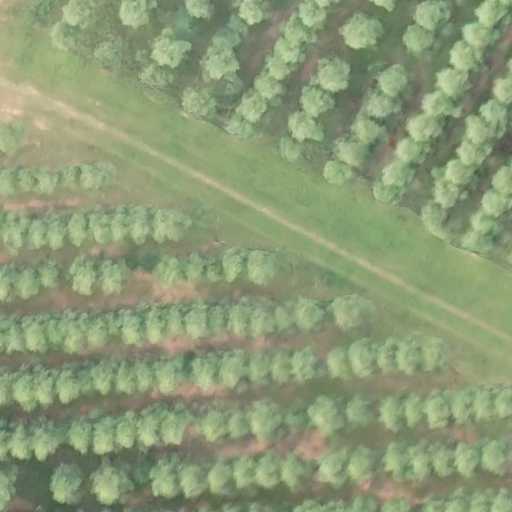eucalipto: (332, 293, 377, 332), (306, 397, 346, 437), (340, 13, 382, 50), (48, 463, 84, 506), (89, 467, 129, 505), (251, 400, 284, 446), (152, 29, 190, 67), (318, 447, 351, 490), (153, 205, 192, 241), (65, 254, 98, 295), (219, 350, 250, 393), (312, 58, 350, 93), (285, 111, 325, 143), (348, 337, 378, 379), (296, 85, 335, 117), (163, 405, 193, 446), (398, 342, 433, 377), (292, 297, 326, 333), (383, 440, 412, 482), (378, 336, 410, 374), (431, 69, 470, 100), (350, 446, 380, 486), (34, 421, 63, 462), (178, 460, 207, 501), (148, 461, 180, 498), (283, 453, 314, 491), (203, 45, 237, 79), (444, 389, 476, 425), (181, 89, 217, 121), (256, 450, 283, 492), (248, 247, 277, 286), (190, 352, 219, 391), (63, 311, 89, 354), (90, 415, 116, 458), (10, 372, 37, 413), (376, 65, 409, 98), (98, 259, 128, 295), (65, 416, 92, 456), (481, 440, 511, 476), (394, 136, 431, 165), (137, 404, 161, 448), (8, 423, 35, 462), (343, 394, 372, 430), (414, 1, 450, 30), (235, 91, 267, 123), (284, 13, 316, 45), (221, 245, 247, 284), (199, 408, 227, 444), (114, 410, 139, 450), (401, 392, 426, 432), (404, 116, 441, 143), (250, 74, 283, 104), (272, 36, 305, 66), (295, 1, 329, 30), (371, 180, 405, 209), (157, 253, 185, 288), (291, 347, 318, 383), (424, 397, 451, 433), (379, 395, 405, 432), (458, 21, 495, 47), (403, 22, 434, 53), (51, 21, 81, 53), (23, 316, 48, 354), (87, 211, 114, 246), (184, 303, 211, 338), (207, 460, 234, 495), (128, 202, 151, 243), (94, 41, 123, 73), (337, 140, 369, 169), (426, 338, 451, 375), (460, 230, 493, 258), (325, 348, 351, 383), (88, 310, 110, 351), (480, 188, 512, 216), (55, 370, 82, 403), (117, 1, 150, 28), (380, 160, 413, 187), (138, 67, 175, 91), (14, 266, 40, 300), (34, 369, 56, 409), (155, 357, 177, 397), (456, 443, 481, 478), (465, 113, 493, 144), (92, 361, 116, 397), (469, 212, 501, 239), (447, 41, 476, 70), (146, 303, 166, 345), (64, 1, 95, 28), (115, 360, 138, 396), (232, 455, 255, 491), (67, 210, 88, 249), (122, 308, 143, 347), (228, 304, 252, 338), (323, 161, 354, 187), (250, 305, 275, 337), (431, 444, 455, 477), (416, 203, 446, 229), (472, 388, 496, 420), (39, 257, 62, 290), (456, 142, 487, 166), (209, 303, 230, 338), (1, 318, 22, 353), (134, 361, 155, 396), (412, 444, 433, 479), (80, 164, 107, 191), (235, 1, 263, 27), (184, 251, 206, 284), (224, 117, 253, 142), (350, 119, 380, 143), (228, 411, 251, 442), (210, 25, 241, 48), (265, 54, 291, 81), (368, 95, 395, 121), (421, 91, 447, 118), (446, 159, 472, 186), (274, 301, 294, 336), (32, 169, 61, 193), (46, 216, 67, 249), (287, 401, 310, 431), (270, 358, 293, 387), (491, 73, 512, 104), (432, 183, 459, 207), (490, 165, 512, 194), (112, 204, 128, 243), (249, 359, 271, 387), (29, 216, 47, 249), (75, 365, 94, 396), (184, 1, 214, 20), (60, 166, 81, 193), (1, 168, 21, 196), (167, 304, 185, 335), (224, 15, 248, 38), (279, 138, 303, 161), (46, 318, 65, 347), (20, 167, 38, 194), (206, 251, 221, 283), (496, 388, 512, 418), (1, 264, 13, 303), (1, 375, 12, 410)
